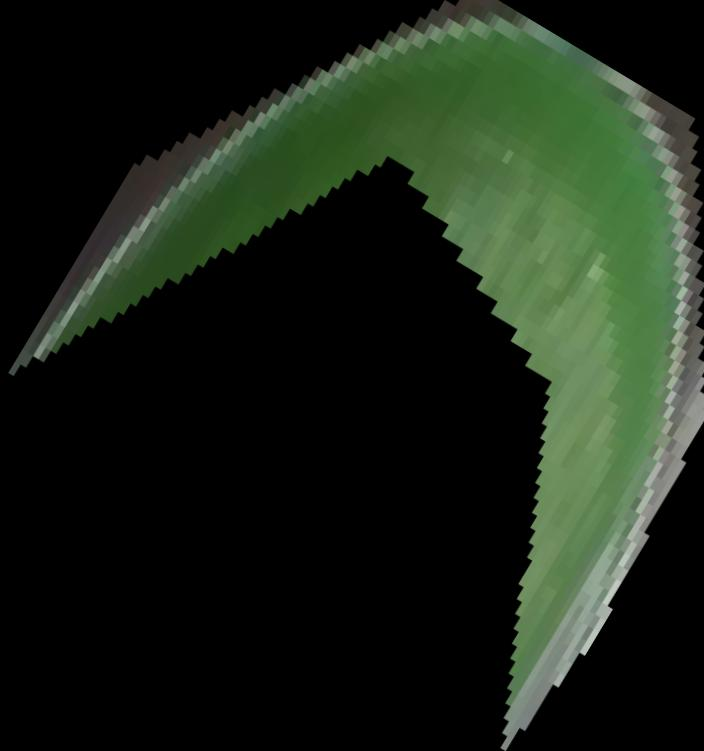bottom: (1, 0, 704, 750)
